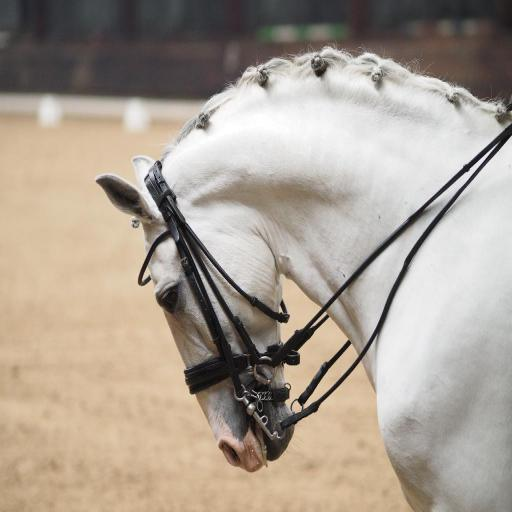Horse: (94, 41, 512, 512)
